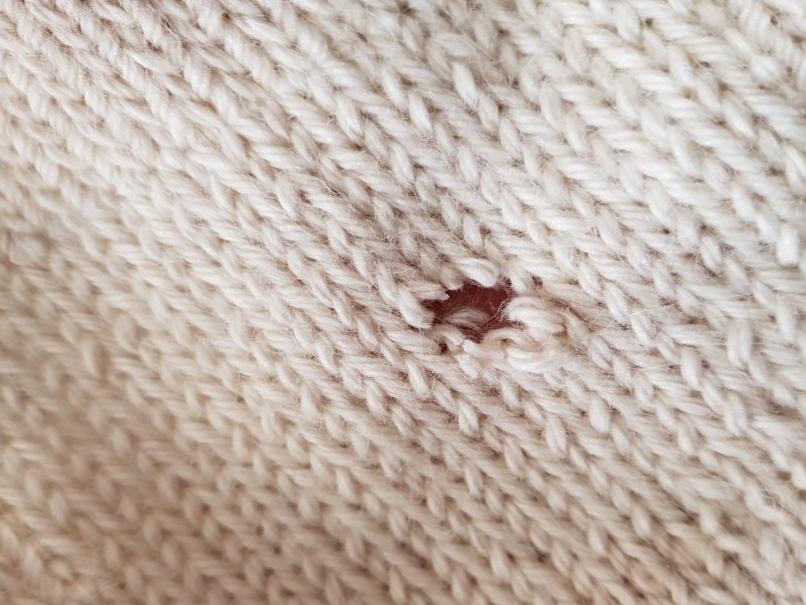hole: (411, 270, 532, 350)
